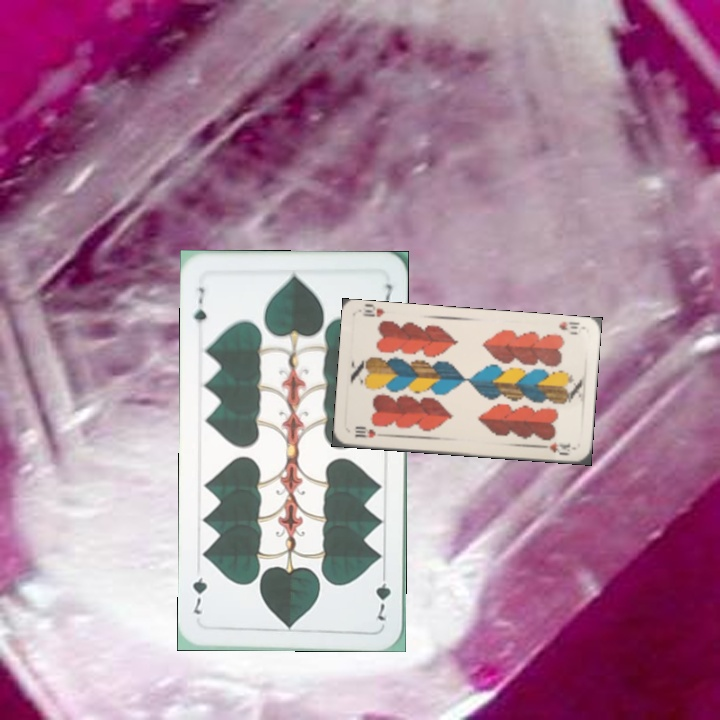G7: (372, 566, 394, 623), (189, 283, 209, 326)
H10: (351, 423, 378, 440), (555, 318, 582, 333)
